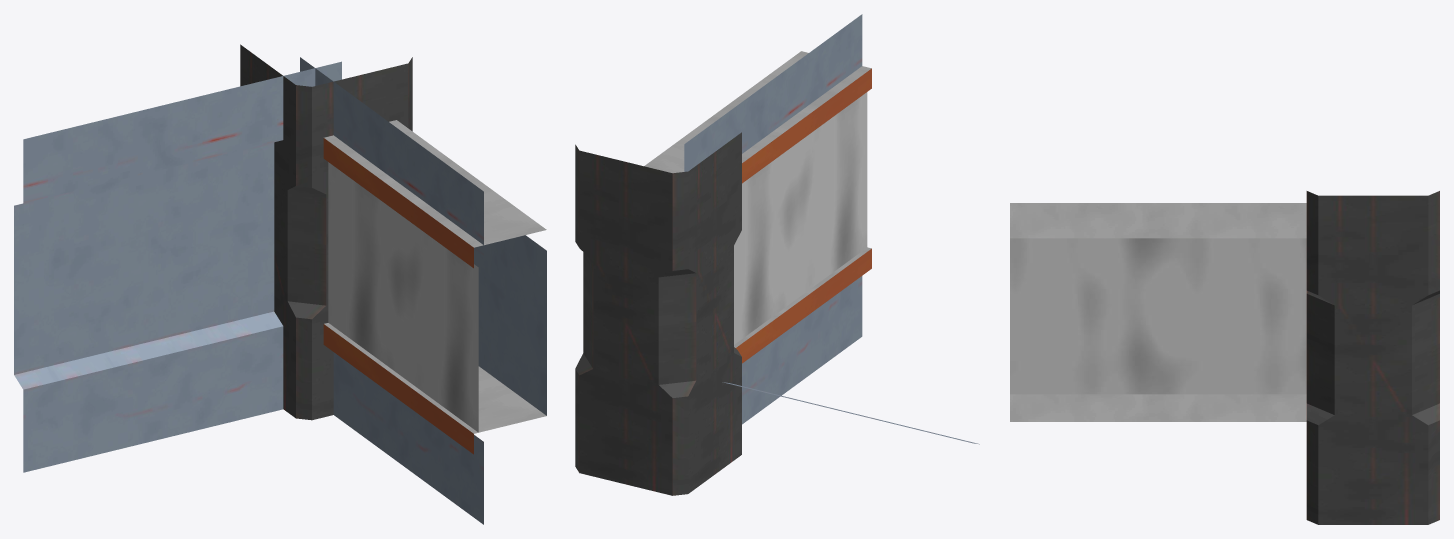
File: Wall_WindowCorner_2_B_F.glb
3 views of the same model, side by side, from view 1: azimuth 30°, elevation 25°; view 2: azimuth 150°, elevation 25°; view 3: azimuth 270°, elevation 25° (orthographic). The views are drawn at different scales.
Parts seen in each view (by area): view 1: Wall_WindowCorner_2_B_F; view 2: Wall_WindowCorner_2_B_F; view 3: Wall_WindowCorner_2_B_F.
Part boxes in pixels (box(x1,y1,x2,y2)): Wall_WindowCorner_2_B_F: box(14, 44, 546, 524); Wall_WindowCorner_2_B_F: box(575, 14, 979, 495); Wall_WindowCorner_2_B_F: box(1010, 191, 1439, 524).
Size of the model in its own units: 7.1 by 6 by 7.1.
3 materials, 3 textured.
